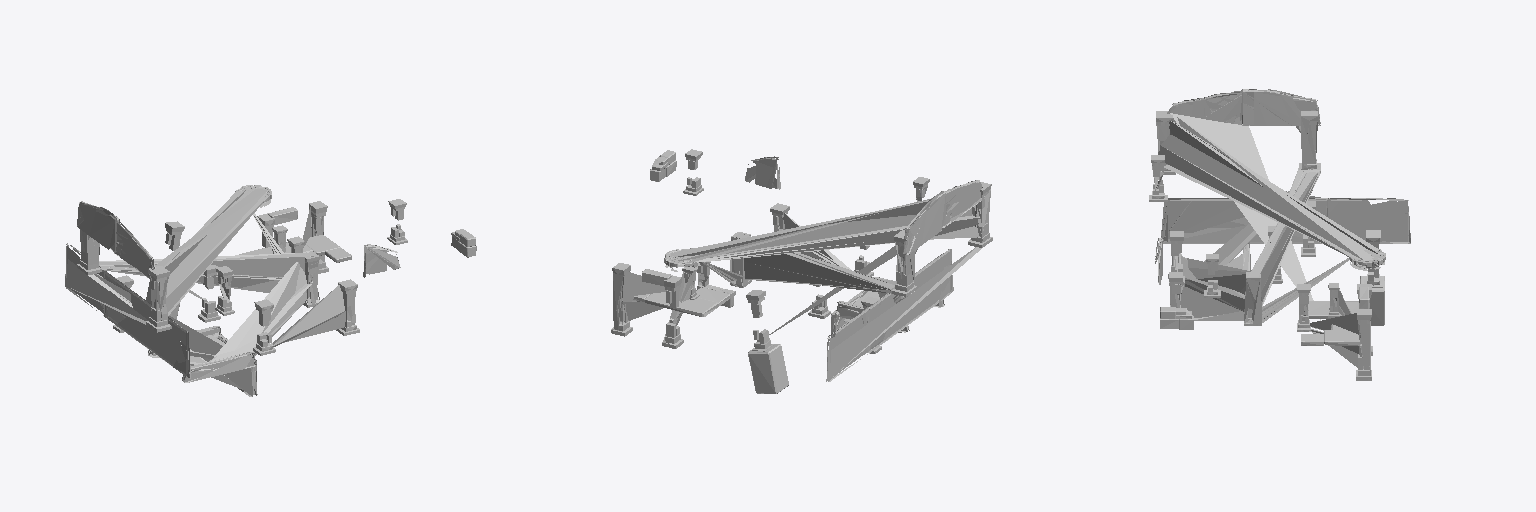
Rendered from cellRuins_CollapsedPlazaGarden_Proxy-sharedassets3.assets-647.obj.
3 renders of one model, left to right at view 1: azimuth 30°, elevation 25°; view 2: azimuth 150°, elevation 25°; view 3: azimuth 270°, elevation 25°, orthographic.
Parts seen in each view (by area): view 1: cellRuins_CollapsedPlazaGarden_Proxy_1, cellRuins_CollapsedPlazaGarden_Proxy_0, cellRuins_CollapsedPlazaGarden_Proxy_3; view 2: cellRuins_CollapsedPlazaGarden_Proxy_1, cellRuins_CollapsedPlazaGarden_Proxy_0, cellRuins_CollapsedPlazaGarden_Proxy_3; view 3: cellRuins_CollapsedPlazaGarden_Proxy_1, cellRuins_CollapsedPlazaGarden_Proxy_0, cellRuins_CollapsedPlazaGarden_Proxy_3.
Boxes of the visible parts, x1,y1,x2,y2 form: cellRuins_CollapsedPlazaGarden_Proxy_1: [65, 185, 475, 396]; cellRuins_CollapsedPlazaGarden_Proxy_0: [77, 185, 319, 319]; cellRuins_CollapsedPlazaGarden_Proxy_3: [77, 185, 476, 355]; cellRuins_CollapsedPlazaGarden_Proxy_1: [612, 152, 990, 381]; cellRuins_CollapsedPlazaGarden_Proxy_0: [664, 198, 981, 296]; cellRuins_CollapsedPlazaGarden_Proxy_3: [611, 149, 992, 393]; cellRuins_CollapsedPlazaGarden_Proxy_1: [1152, 89, 1410, 380]; cellRuins_CollapsedPlazaGarden_Proxy_0: [1158, 117, 1384, 325]; cellRuins_CollapsedPlazaGarden_Proxy_3: [1149, 111, 1385, 380].
Bounding box in the file's own units: 105 × 55.65 × 73.54.